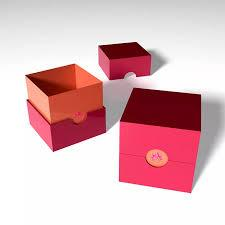cube: (119, 88, 202, 193)
